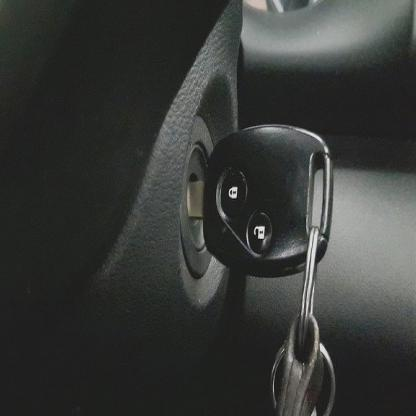keys: (183, 124, 335, 293)
